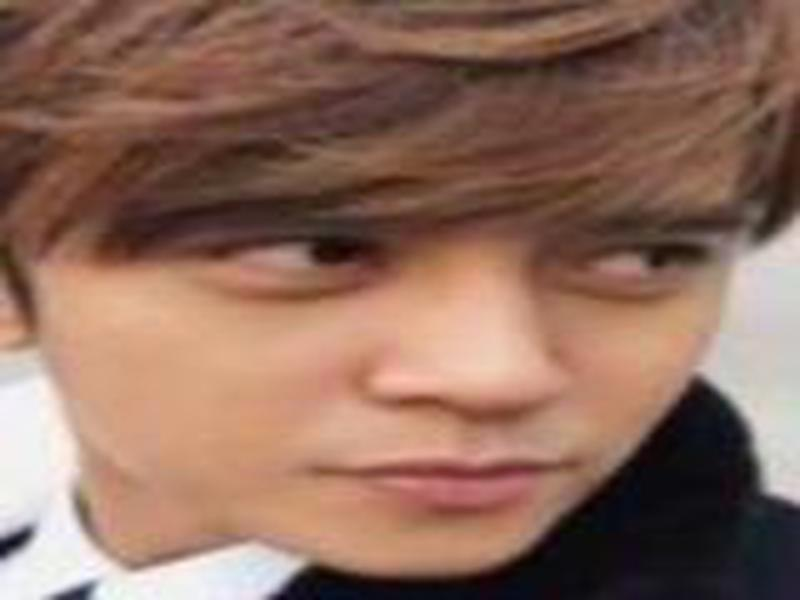without_mask: (36, 123, 727, 578)
